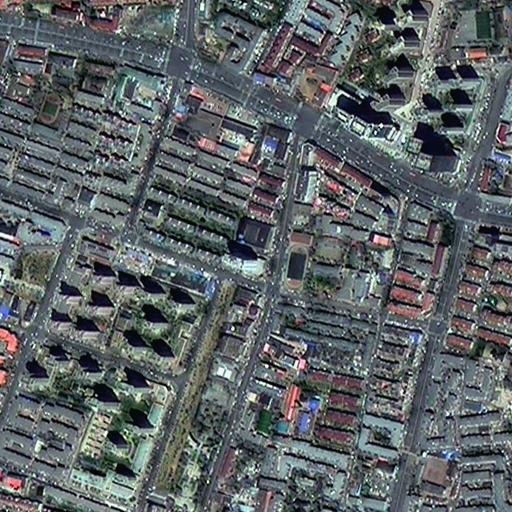school: (279, 228, 347, 302), (26, 90, 69, 143)
